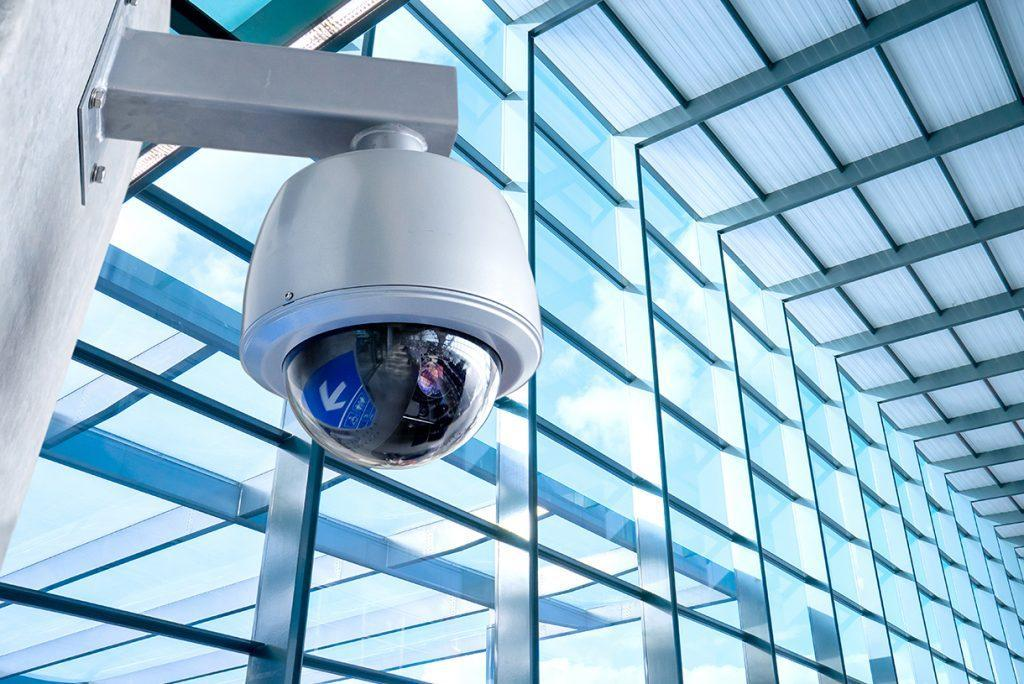CCTV: (103, 31, 543, 468)
